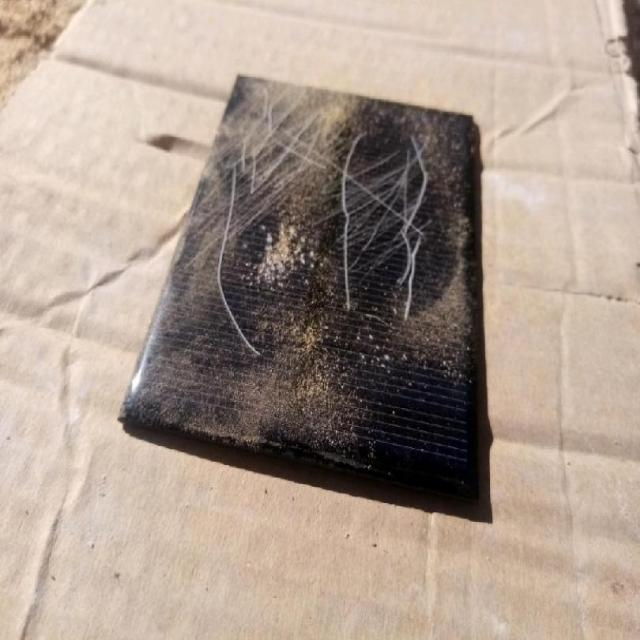faulty: (184, 72, 476, 508)
